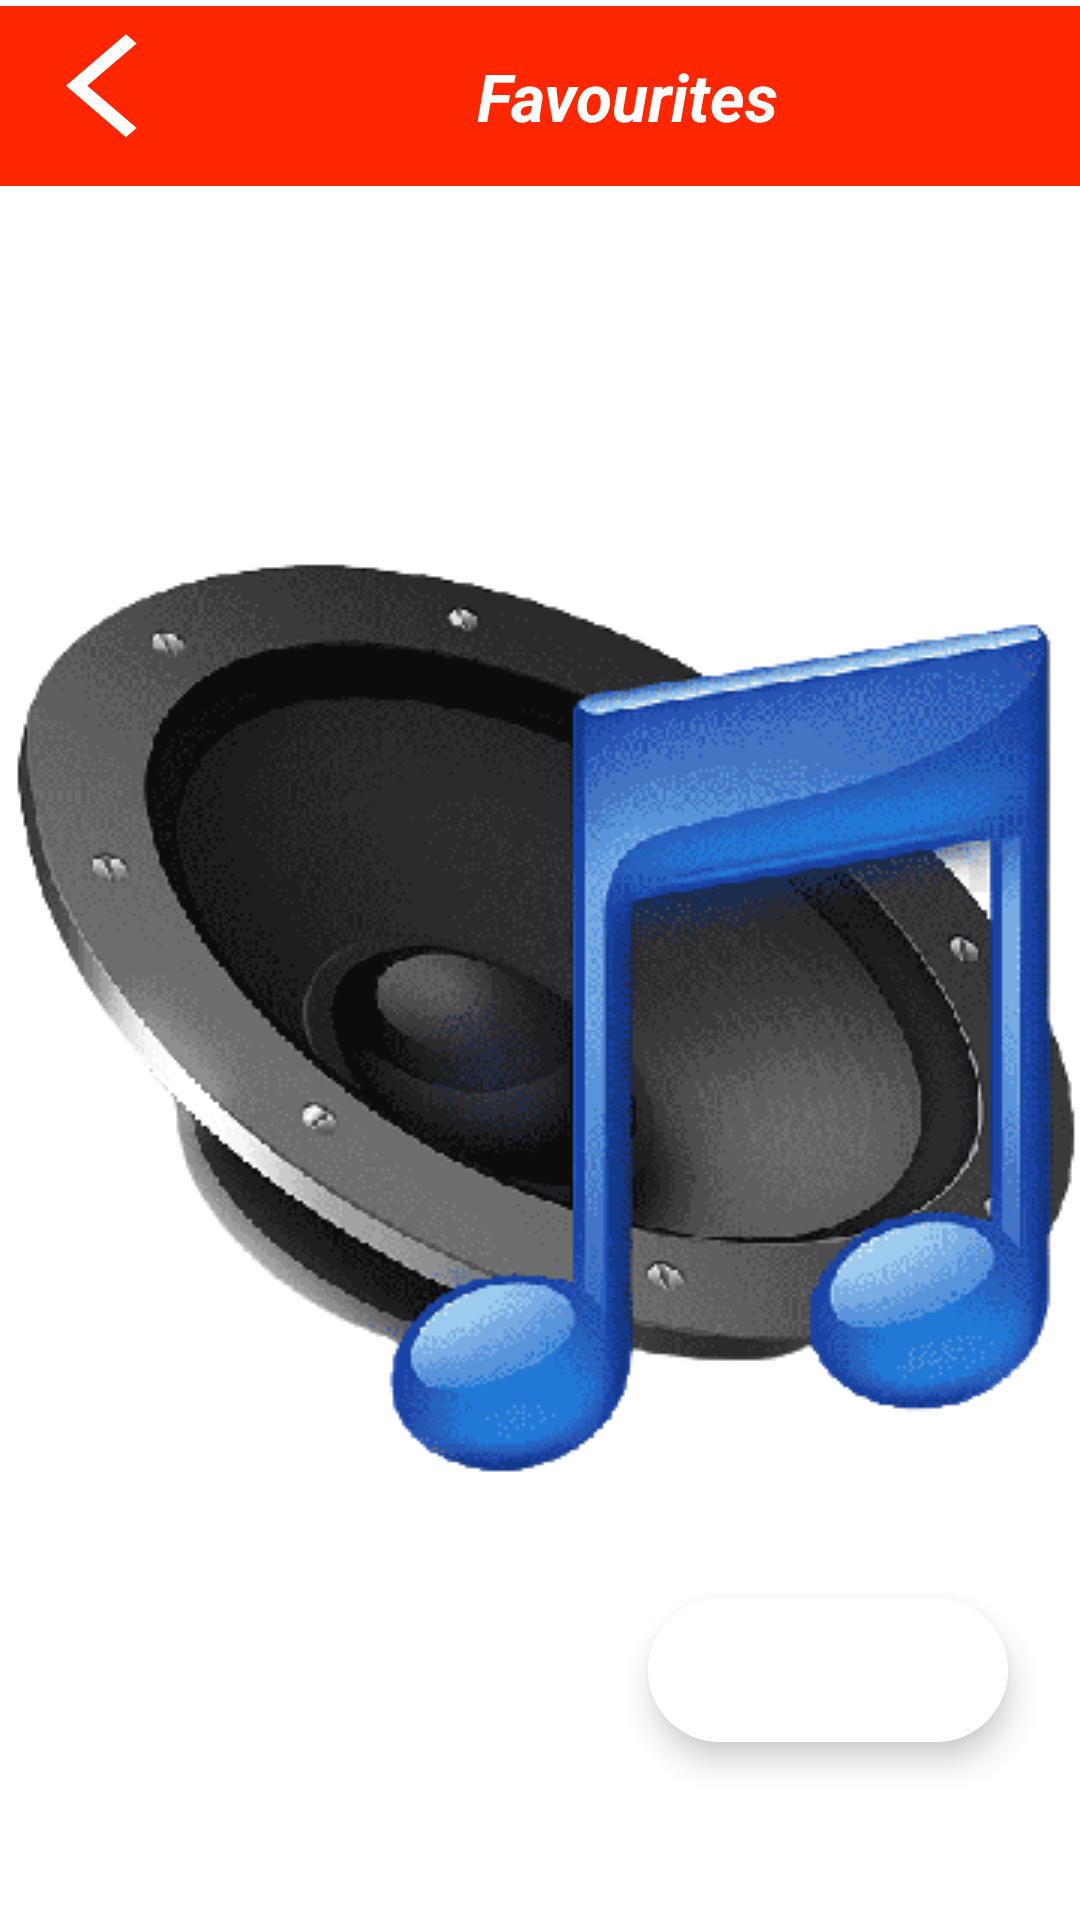

Point at icon controls on the screen. Image size 1080 × 1920, points as (x,y).
Back: (101,85)
